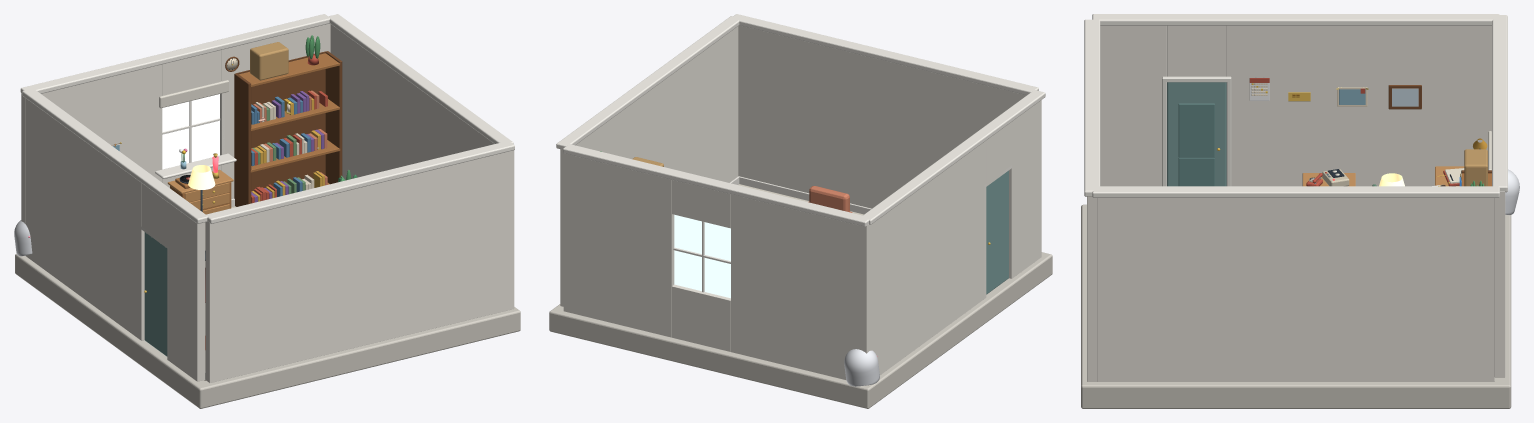
The model's file is room_villa.glb.
The picture shows the model from 3 angles, left to right: view 1: azimuth 30°, elevation 25°; view 2: azimuth 150°, elevation 25°; view 3: azimuth 270°, elevation 25°; orthographic projection. The views are drawn at different scales.
Visible parts, largest first — view 1: wall_front, wall_left, wall_back, wall_right, slab, back.002, window_glass, leaf, side, side.001, window_frame, wicker (+6 smaller); view 2: wall_back, wall_front, wall_left, wall_right, slab, window_glass, leaf, body.005, back.003, window_frame; view 3: wall_right, wall_left, slab, wall_front, wall_back, leaf, panel-top, door_frame, panel-bottom, wicker, photo, body.005 (+2 smaller).
Boxes of the visible parts, x1,y1,x2,y2 form: wall_front: [205, 141, 514, 382]; wall_left: [22, 89, 207, 381]; wall_back: [20, 14, 330, 255]; wall_right: [328, 14, 513, 180]; slab: [15, 253, 520, 408]; back.002: [236, 51, 325, 191]; window_glass: [162, 94, 219, 169]; leaf: [144, 232, 167, 356]; side: [234, 73, 251, 206]; side.001: [325, 51, 342, 184]; window_frame: [155, 93, 236, 178]; wicker: [250, 42, 288, 80]; wall_back: [563, 144, 871, 379]; wall_front: [731, 14, 1038, 214]; wall_left: [861, 90, 1045, 374]; wall_right: [556, 16, 739, 306]; slab: [549, 252, 1052, 408]; window_glass: [674, 214, 730, 298]; leaf: [986, 170, 1008, 294]; body.005: [844, 349, 879, 386]; back.003: [809, 186, 849, 211]; window_frame: [673, 215, 730, 298]; wall_right: [1092, 186, 1499, 381]; wall_left: [1092, 14, 1499, 186]; slab: [1081, 204, 1511, 408]; wall_front: [1084, 19, 1100, 381]; wall_back: [1492, 15, 1507, 377]; leaf: [1167, 82, 1226, 186]; panel-top: [1178, 103, 1214, 157]; door_frame: [1162, 76, 1231, 186]; panel-bottom: [1178, 157, 1214, 186]; wicker: [1464, 149, 1487, 186]; photo: [1392, 88, 1418, 106]; body.005: [1505, 169, 1519, 215].
Bounding box in the file's own units: 6.55 × 3.6 × 6.63.
